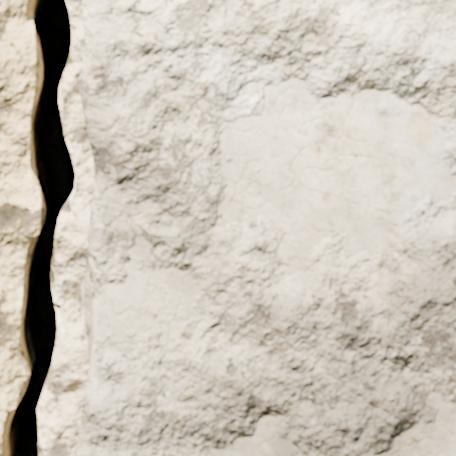brick: (73, 0, 455, 455)
crack: (1, 0, 75, 455)
